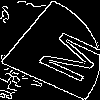M: (25, 24, 100, 85)
